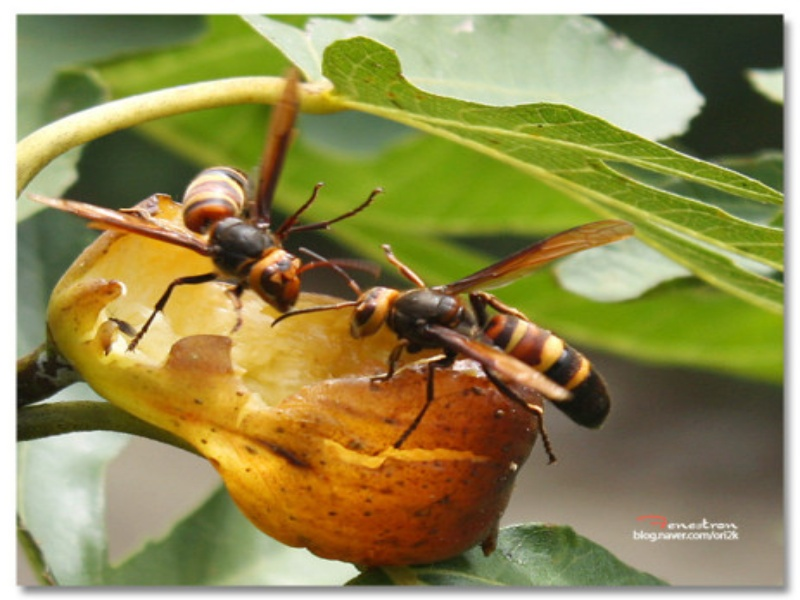asian_giant_hornet: (344, 244, 619, 434), (149, 148, 325, 328)
